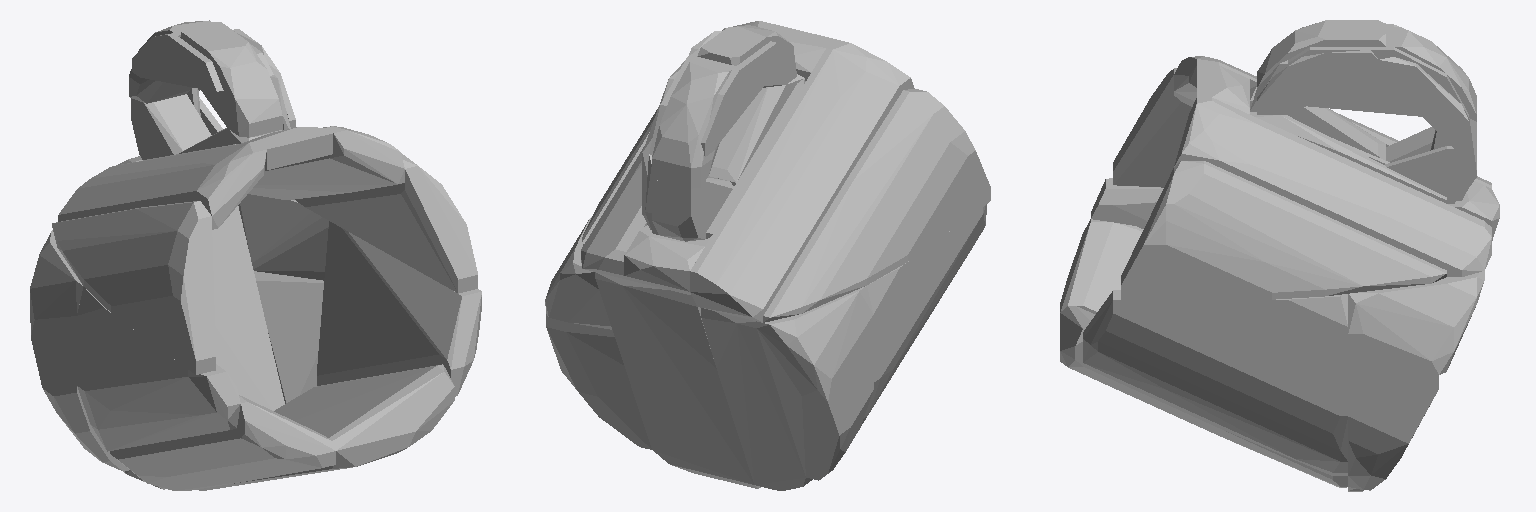
--- Facts derived from the render (not from the file) ---
3 views of the same robot in one strip: view 1: azimuth 30°, elevation 25°; view 2: azimuth 150°, elevation 25°; view 3: azimuth 270°, elevation 25° (orthographic).
Model root with 29 links and 28 joints (28 fixed), rooted at link_b6f30c63c946c286cf6897d8875cfd5e_convex_piece_0, posed every joint at zero.
Links seen in each view (by area): view 1: link_b6f30c63c946c286cf6897d8875cfd5e_convex_piece_0, link_b6f30c63c946c286cf6897d8875cfd5e_convex_piece_7, link_b6f30c63c946c286cf6897d8875cfd5e_convex_piece_2, link_b6f30c63c946c286cf6897d8875cfd5e_convex_piece_6, link_b6f30c63c946c286cf6897d8875cfd5e_convex_piece_11, link_b6f30c63c946c286cf6897d8875cfd5e_convex_piece_3, link_b6f30c63c946c286cf6897d8875cfd5e_convex_piece_1, link_b6f30c63c946c286cf6897d8875cfd5e_convex_piece_8, link_b6f30c63c946c286cf6897d8875cfd5e_convex_piece_4, link_b6f30c63c946c286cf6897d8875cfd5e_convex_piece_10, link_b6f30c63c946c286cf6897d8875cfd5e_convex_piece_22, link_b6f30c63c946c286cf6897d8875cfd5e_convex_piece_12 (+7 smaller); view 2: link_b6f30c63c946c286cf6897d8875cfd5e_convex_piece_1, link_b6f30c63c946c286cf6897d8875cfd5e_convex_piece_0, link_b6f30c63c946c286cf6897d8875cfd5e_convex_piece_8, link_b6f30c63c946c286cf6897d8875cfd5e_convex_piece_4, link_b6f30c63c946c286cf6897d8875cfd5e_convex_piece_5, link_b6f30c63c946c286cf6897d8875cfd5e_convex_piece_2, link_b6f30c63c946c286cf6897d8875cfd5e_convex_piece_12, link_b6f30c63c946c286cf6897d8875cfd5e_convex_piece_18, link_b6f30c63c946c286cf6897d8875cfd5e_convex_piece_10, link_b6f30c63c946c286cf6897d8875cfd5e_convex_piece_23, link_b6f30c63c946c286cf6897d8875cfd5e_convex_piece_9, link_b6f30c63c946c286cf6897d8875cfd5e_convex_piece_19 (+7 smaller); view 3: link_b6f30c63c946c286cf6897d8875cfd5e_convex_piece_7, link_b6f30c63c946c286cf6897d8875cfd5e_convex_piece_11, link_b6f30c63c946c286cf6897d8875cfd5e_convex_piece_10, link_b6f30c63c946c286cf6897d8875cfd5e_convex_piece_13, link_b6f30c63c946c286cf6897d8875cfd5e_convex_piece_12, link_b6f30c63c946c286cf6897d8875cfd5e_convex_piece_0, link_b6f30c63c946c286cf6897d8875cfd5e_convex_piece_27, link_b6f30c63c946c286cf6897d8875cfd5e_convex_piece_3, link_b6f30c63c946c286cf6897d8875cfd5e_convex_piece_6, link_b6f30c63c946c286cf6897d8875cfd5e_convex_piece_24, link_b6f30c63c946c286cf6897d8875cfd5e_convex_piece_25, link_b6f30c63c946c286cf6897d8875cfd5e_convex_piece_22 (+10 smaller).
Link boxes in pixels (bbox=[...]): link_b6f30c63c946c286cf6897d8875cfd5e_convex_piece_0: bbox=[52, 201, 215, 374]; link_b6f30c63c946c286cf6897d8875cfd5e_convex_piece_7: bbox=[317, 221, 481, 396]; link_b6f30c63c946c286cf6897d8875cfd5e_convex_piece_2: bbox=[77, 287, 240, 451]; link_b6f30c63c946c286cf6897d8875cfd5e_convex_piece_6: bbox=[198, 364, 454, 490]; link_b6f30c63c946c286cf6897d8875cfd5e_convex_piece_11: bbox=[295, 153, 477, 293]; link_b6f30c63c946c286cf6897d8875cfd5e_convex_piece_3: bbox=[110, 395, 335, 490]; link_b6f30c63c946c286cf6897d8875cfd5e_convex_piece_1: bbox=[58, 141, 266, 229]; link_b6f30c63c946c286cf6897d8875cfd5e_convex_piece_8: bbox=[212, 206, 284, 410]; link_b6f30c63c946c286cf6897d8875cfd5e_convex_piece_4: bbox=[30, 230, 128, 471]; link_b6f30c63c946c286cf6897d8875cfd5e_convex_piece_10: bbox=[248, 126, 404, 199]; link_b6f30c63c946c286cf6897d8875cfd5e_convex_piece_22: bbox=[180, 22, 282, 137]; link_b6f30c63c946c286cf6897d8875cfd5e_convex_piece_12: bbox=[254, 271, 323, 403]; link_b6f30c63c946c286cf6897d8875cfd5e_convex_piece_1: bbox=[690, 40, 914, 322]; link_b6f30c63c946c286cf6897d8875cfd5e_convex_piece_0: bbox=[763, 89, 990, 322]; link_b6f30c63c946c286cf6897d8875cfd5e_convex_piece_8: bbox=[595, 272, 760, 488]; link_b6f30c63c946c286cf6897d8875cfd5e_convex_piece_4: bbox=[757, 286, 873, 480]; link_b6f30c63c946c286cf6897d8875cfd5e_convex_piece_5: bbox=[701, 308, 812, 490]; link_b6f30c63c946c286cf6897d8875cfd5e_convex_piece_2: bbox=[861, 204, 986, 425]; link_b6f30c63c946c286cf6897d8875cfd5e_convex_piece_12: bbox=[546, 314, 651, 449]; link_b6f30c63c946c286cf6897d8875cfd5e_convex_piece_18: bbox=[652, 57, 735, 188]; link_b6f30c63c946c286cf6897d8875cfd5e_convex_piece_10: bbox=[581, 21, 770, 279]; link_b6f30c63c946c286cf6897d8875cfd5e_convex_piece_23: bbox=[652, 176, 733, 241]; link_b6f30c63c946c286cf6897d8875cfd5e_convex_piece_9: bbox=[624, 225, 710, 294]; link_b6f30c63c946c286cf6897d8875cfd5e_convex_piece_19: bbox=[709, 74, 803, 185]; link_b6f30c63c946c286cf6897d8875cfd5e_convex_piece_7: bbox=[1083, 290, 1347, 472]; link_b6f30c63c946c286cf6897d8875cfd5e_convex_piece_11: bbox=[1121, 161, 1446, 299]; link_b6f30c63c946c286cf6897d8875cfd5e_convex_piece_10: bbox=[1174, 97, 1491, 276]; link_b6f30c63c946c286cf6897d8875cfd5e_convex_piece_13: bbox=[1348, 271, 1484, 374]; link_b6f30c63c946c286cf6897d8875cfd5e_convex_piece_12: bbox=[1348, 375, 1438, 490]; link_b6f30c63c946c286cf6897d8875cfd5e_convex_piece_0: bbox=[1113, 68, 1194, 187]; link_b6f30c63c946c286cf6897d8875cfd5e_convex_piece_27: bbox=[1257, 50, 1378, 114]; link_b6f30c63c946c286cf6897d8875cfd5e_convex_piece_3: bbox=[1060, 219, 1143, 314]; link_b6f30c63c946c286cf6897d8875cfd5e_convex_piece_6: bbox=[1060, 306, 1347, 487]; link_b6f30c63c946c286cf6897d8875cfd5e_convex_piece_24: bbox=[1379, 57, 1468, 148]; link_b6f30c63c946c286cf6897d8875cfd5e_convex_piece_25: bbox=[1288, 47, 1468, 117]; link_b6f30c63c946c286cf6897d8875cfd5e_convex_piece_22: bbox=[1257, 20, 1385, 87].
Bounding box of the posed robot: 0.0342 × 0.0462 × 0.0509 m (x, y, z).
Meshes: 29 distinct files referenced, 29 mesh visuals loaded (29 OBJ).

The robot description file, URDF, robot "root":
<robot name="root">
  <link name="link_b6f30c63c946c286cf6897d8875cfd5e_convex_piece_0">
    <inertial>
      <origin rpy="0 0 0" xyz="0 0 0"/>
      <mass value="2.46E-07"/>
      <inertia ixx="2.02E-11" ixy="1.10E-11" ixz="-1.99E-11" iyy="5.26E-11" iyz="-5.85E-12" izz="6.77E-11"/>
    </inertial>
    <visual>
      <origin rpy="0 0 0" xyz="0 0 0"/>
      <geometry>
        <mesh filename="b6f30c63c946c286cf6897d8875cfd5e_convex_piece_0.obj" scale="1.0000E+00"/>
      </geometry>
      <material name="">
        <color rgba="7.50E-01 7.50E-01 7.50E-01 1"/>
      </material>
    </visual>
    <collision>
      <origin rpy="0 0 0" xyz="0 0 0"/>
      <geometry>
        <mesh filename="b6f30c63c946c286cf6897d8875cfd5e_convex_piece_0.obj" scale="1.0000E+00"/>
      </geometry>
    </collision>
  </link>
  <link name="link_b6f30c63c946c286cf6897d8875cfd5e_convex_piece_1">
    <inertial>
      <origin rpy="0 0 0" xyz="0 0 0"/>
      <mass value="3.14E-07"/>
      <inertia ixx="5.94E-11" ixy="-1.40E-11" ixz="-2.20E-11" iyy="4.30E-11" iyz="7.39E-12" izz="5.57E-11"/>
    </inertial>
    <visual>
      <origin rpy="0 0 0" xyz="0 0 0"/>
      <geometry>
        <mesh filename="b6f30c63c946c286cf6897d8875cfd5e_convex_piece_1.obj" scale="1.0000E+00"/>
      </geometry>
      <material name="">
        <color rgba="7.50E-01 7.50E-01 7.50E-01 1"/>
      </material>
    </visual>
    <collision>
      <origin rpy="0 0 0" xyz="0 0 0"/>
      <geometry>
        <mesh filename="b6f30c63c946c286cf6897d8875cfd5e_convex_piece_1.obj" scale="1.0000E+00"/>
      </geometry>
    </collision>
  </link>
  <joint name="link_b6f30c63c946c286cf6897d8875cfd5e_convex_piece_1_joint" type="fixed">
    <origin rpy="0 0 0" xyz="0 0 0"/>
    <parent link="link_b6f30c63c946c286cf6897d8875cfd5e_convex_piece_0"/>
    <child link="link_b6f30c63c946c286cf6897d8875cfd5e_convex_piece_1"/>
  </joint>
  <link name="link_b6f30c63c946c286cf6897d8875cfd5e_convex_piece_2">
    <inertial>
      <origin rpy="0 0 0" xyz="0 0 0"/>
      <mass value="2.31E-07"/>
      <inertia ixx="1.70E-11" ixy="1.12E-11" ixz="1.89E-11" iyy="5.55E-11" iyz="1.87E-12" izz="6.67E-11"/>
    </inertial>
    <visual>
      <origin rpy="0 0 0" xyz="0 0 0"/>
      <geometry>
        <mesh filename="b6f30c63c946c286cf6897d8875cfd5e_convex_piece_2.obj" scale="1.0000E+00"/>
      </geometry>
      <material name="">
        <color rgba="7.50E-01 7.50E-01 7.50E-01 1"/>
      </material>
    </visual>
    <collision>
      <origin rpy="0 0 0" xyz="0 0 0"/>
      <geometry>
        <mesh filename="b6f30c63c946c286cf6897d8875cfd5e_convex_piece_2.obj" scale="1.0000E+00"/>
      </geometry>
    </collision>
  </link>
  <joint name="link_b6f30c63c946c286cf6897d8875cfd5e_convex_piece_2_joint" type="fixed">
    <origin rpy="0 0 0" xyz="0 0 0"/>
    <parent link="link_b6f30c63c946c286cf6897d8875cfd5e_convex_piece_1"/>
    <child link="link_b6f30c63c946c286cf6897d8875cfd5e_convex_piece_2"/>
  </joint>
  <link name="link_b6f30c63c946c286cf6897d8875cfd5e_convex_piece_3">
    <inertial>
      <origin rpy="0 0 0" xyz="0 0 0"/>
      <mass value="3.49E-07"/>
      <inertia ixx="9.86E-11" ixy="2.08E-11" ixz="3.91E-11" iyy="8.68E-11" iyz="2.20E-11" izz="6.96E-11"/>
    </inertial>
    <visual>
      <origin rpy="0 0 0" xyz="0 0 0"/>
      <geometry>
        <mesh filename="b6f30c63c946c286cf6897d8875cfd5e_convex_piece_3.obj" scale="1.0000E+00"/>
      </geometry>
      <material name="">
        <color rgba="7.50E-01 7.50E-01 7.50E-01 1"/>
      </material>
    </visual>
    <collision>
      <origin rpy="0 0 0" xyz="0 0 0"/>
      <geometry>
        <mesh filename="b6f30c63c946c286cf6897d8875cfd5e_convex_piece_3.obj" scale="1.0000E+00"/>
      </geometry>
    </collision>
  </link>
  <joint name="link_b6f30c63c946c286cf6897d8875cfd5e_convex_piece_3_joint" type="fixed">
    <origin rpy="0 0 0" xyz="0 0 0"/>
    <parent link="link_b6f30c63c946c286cf6897d8875cfd5e_convex_piece_2"/>
    <child link="link_b6f30c63c946c286cf6897d8875cfd5e_convex_piece_3"/>
  </joint>
  <link name="link_b6f30c63c946c286cf6897d8875cfd5e_convex_piece_4">
    <inertial>
      <origin rpy="0 0 0" xyz="0 0 0"/>
      <mass value="2.24E-07"/>
      <inertia ixx="4.94E-11" ixy="-3.83E-11" ixz="2.49E-11" iyy="5.71E-11" iyz="-2.02E-11" izz="8.01E-11"/>
    </inertial>
    <visual>
      <origin rpy="0 0 0" xyz="0 0 0"/>
      <geometry>
        <mesh filename="b6f30c63c946c286cf6897d8875cfd5e_convex_piece_4.obj" scale="1.0000E+00"/>
      </geometry>
      <material name="">
        <color rgba="7.50E-01 7.50E-01 7.50E-01 1"/>
      </material>
    </visual>
    <collision>
      <origin rpy="0 0 0" xyz="0 0 0"/>
      <geometry>
        <mesh filename="b6f30c63c946c286cf6897d8875cfd5e_convex_piece_4.obj" scale="1.0000E+00"/>
      </geometry>
    </collision>
  </link>
  <joint name="link_b6f30c63c946c286cf6897d8875cfd5e_convex_piece_4_joint" type="fixed">
    <origin rpy="0 0 0" xyz="0 0 0"/>
    <parent link="link_b6f30c63c946c286cf6897d8875cfd5e_convex_piece_3"/>
    <child link="link_b6f30c63c946c286cf6897d8875cfd5e_convex_piece_4"/>
  </joint>
  <link name="link_b6f30c63c946c286cf6897d8875cfd5e_convex_piece_5">
    <inertial>
      <origin rpy="0 0 0" xyz="0 0 0"/>
      <mass value="1.39E-07"/>
      <inertia ixx="4.70E-11" ixy="-1.39E-11" ixz="1.19E-11" iyy="2.85E-11" iyz="-1.83E-11" izz="3.50E-11"/>
    </inertial>
    <visual>
      <origin rpy="0 0 0" xyz="0 0 0"/>
      <geometry>
        <mesh filename="b6f30c63c946c286cf6897d8875cfd5e_convex_piece_5.obj" scale="1.0000E+00"/>
      </geometry>
      <material name="">
        <color rgba="7.50E-01 7.50E-01 7.50E-01 1"/>
      </material>
    </visual>
    <collision>
      <origin rpy="0 0 0" xyz="0 0 0"/>
      <geometry>
        <mesh filename="b6f30c63c946c286cf6897d8875cfd5e_convex_piece_5.obj" scale="1.0000E+00"/>
      </geometry>
    </collision>
  </link>
  <joint name="link_b6f30c63c946c286cf6897d8875cfd5e_convex_piece_5_joint" type="fixed">
    <origin rpy="0 0 0" xyz="0 0 0"/>
    <parent link="link_b6f30c63c946c286cf6897d8875cfd5e_convex_piece_4"/>
    <child link="link_b6f30c63c946c286cf6897d8875cfd5e_convex_piece_5"/>
  </joint>
  <link name="link_b6f30c63c946c286cf6897d8875cfd5e_convex_piece_6">
    <inertial>
      <origin rpy="0 0 0" xyz="0 0 0"/>
      <mass value="5.61E-07"/>
      <inertia ixx="1.87E-10" ixy="-1.69E-11" ixz="-3.21E-11" iyy="1.35E-10" iyz="4.38E-11" izz="8.99E-11"/>
    </inertial>
    <visual>
      <origin rpy="0 0 0" xyz="0 0 0"/>
      <geometry>
        <mesh filename="b6f30c63c946c286cf6897d8875cfd5e_convex_piece_6.obj" scale="1.0000E+00"/>
      </geometry>
      <material name="">
        <color rgba="7.50E-01 7.50E-01 7.50E-01 1"/>
      </material>
    </visual>
    <collision>
      <origin rpy="0 0 0" xyz="0 0 0"/>
      <geometry>
        <mesh filename="b6f30c63c946c286cf6897d8875cfd5e_convex_piece_6.obj" scale="1.0000E+00"/>
      </geometry>
    </collision>
  </link>
  <joint name="link_b6f30c63c946c286cf6897d8875cfd5e_convex_piece_6_joint" type="fixed">
    <origin rpy="0 0 0" xyz="0 0 0"/>
    <parent link="link_b6f30c63c946c286cf6897d8875cfd5e_convex_piece_5"/>
    <child link="link_b6f30c63c946c286cf6897d8875cfd5e_convex_piece_6"/>
  </joint>
  <link name="link_b6f30c63c946c286cf6897d8875cfd5e_convex_piece_7">
    <inertial>
      <origin rpy="0 0 0" xyz="0 0 0"/>
      <mass value="3.95E-07"/>
      <inertia ixx="3.53E-11" ixy="-2.04E-11" ixz="-3.12E-11" iyy="8.88E-11" iyz="4.72E-12" izz="1.06E-10"/>
    </inertial>
    <visual>
      <origin rpy="0 0 0" xyz="0 0 0"/>
      <geometry>
        <mesh filename="b6f30c63c946c286cf6897d8875cfd5e_convex_piece_7.obj" scale="1.0000E+00"/>
      </geometry>
      <material name="">
        <color rgba="7.50E-01 7.50E-01 7.50E-01 1"/>
      </material>
    </visual>
    <collision>
      <origin rpy="0 0 0" xyz="0 0 0"/>
      <geometry>
        <mesh filename="b6f30c63c946c286cf6897d8875cfd5e_convex_piece_7.obj" scale="1.0000E+00"/>
      </geometry>
    </collision>
  </link>
  <joint name="link_b6f30c63c946c286cf6897d8875cfd5e_convex_piece_7_joint" type="fixed">
    <origin rpy="0 0 0" xyz="0 0 0"/>
    <parent link="link_b6f30c63c946c286cf6897d8875cfd5e_convex_piece_6"/>
    <child link="link_b6f30c63c946c286cf6897d8875cfd5e_convex_piece_7"/>
  </joint>
  <link name="link_b6f30c63c946c286cf6897d8875cfd5e_convex_piece_8">
    <inertial>
      <origin rpy="0 0 0" xyz="0 0 0"/>
      <mass value="2.15E-07"/>
      <inertia ixx="7.70E-11" ixy="7.20E-12" ixz="-5.77E-12" iyy="3.64E-11" iyz="-2.76E-11" izz="4.81E-11"/>
    </inertial>
    <visual>
      <origin rpy="0 0 0" xyz="0 0 0"/>
      <geometry>
        <mesh filename="b6f30c63c946c286cf6897d8875cfd5e_convex_piece_8.obj" scale="1.0000E+00"/>
      </geometry>
      <material name="">
        <color rgba="7.50E-01 7.50E-01 7.50E-01 1"/>
      </material>
    </visual>
    <collision>
      <origin rpy="0 0 0" xyz="0 0 0"/>
      <geometry>
        <mesh filename="b6f30c63c946c286cf6897d8875cfd5e_convex_piece_8.obj" scale="1.0000E+00"/>
      </geometry>
    </collision>
  </link>
  <joint name="link_b6f30c63c946c286cf6897d8875cfd5e_convex_piece_8_joint" type="fixed">
    <origin rpy="0 0 0" xyz="0 0 0"/>
    <parent link="link_b6f30c63c946c286cf6897d8875cfd5e_convex_piece_7"/>
    <child link="link_b6f30c63c946c286cf6897d8875cfd5e_convex_piece_8"/>
  </joint>
  <link name="link_b6f30c63c946c286cf6897d8875cfd5e_convex_piece_9">
    <inertial>
      <origin rpy="0 0 0" xyz="0 0 0"/>
      <mass value="4.98E-08"/>
      <inertia ixx="1.79E-11" ixy="2.98E-13" ixz="7.78E-14" iyy="-8.86E-14" iyz="4.92E-12" izz="1.85E-11"/>
    </inertial>
    <visual>
      <origin rpy="0 0 0" xyz="0 0 0"/>
      <geometry>
        <mesh filename="b6f30c63c946c286cf6897d8875cfd5e_convex_piece_9.obj" scale="1.0000E+00"/>
      </geometry>
      <material name="">
        <color rgba="7.50E-01 7.50E-01 7.50E-01 1"/>
      </material>
    </visual>
    <collision>
      <origin rpy="0 0 0" xyz="0 0 0"/>
      <geometry>
        <mesh filename="b6f30c63c946c286cf6897d8875cfd5e_convex_piece_9.obj" scale="1.0000E+00"/>
      </geometry>
    </collision>
  </link>
  <joint name="link_b6f30c63c946c286cf6897d8875cfd5e_convex_piece_9_joint" type="fixed">
    <origin rpy="0 0 0" xyz="0 0 0"/>
    <parent link="link_b6f30c63c946c286cf6897d8875cfd5e_convex_piece_8"/>
    <child link="link_b6f30c63c946c286cf6897d8875cfd5e_convex_piece_9"/>
  </joint>
  <link name="link_b6f30c63c946c286cf6897d8875cfd5e_convex_piece_10">
    <inertial>
      <origin rpy="0 0 0" xyz="0 0 0"/>
      <mass value="2.37E-07"/>
      <inertia ixx="4.42E-11" ixy="9.30E-12" ixz="1.86E-11" iyy="3.59E-11" iyz="5.08E-12" izz="3.98E-11"/>
    </inertial>
    <visual>
      <origin rpy="0 0 0" xyz="0 0 0"/>
      <geometry>
        <mesh filename="b6f30c63c946c286cf6897d8875cfd5e_convex_piece_10.obj" scale="1.0000E+00"/>
      </geometry>
      <material name="">
        <color rgba="7.50E-01 7.50E-01 7.50E-01 1"/>
      </material>
    </visual>
    <collision>
      <origin rpy="0 0 0" xyz="0 0 0"/>
      <geometry>
        <mesh filename="b6f30c63c946c286cf6897d8875cfd5e_convex_piece_10.obj" scale="1.0000E+00"/>
      </geometry>
    </collision>
  </link>
  <joint name="link_b6f30c63c946c286cf6897d8875cfd5e_convex_piece_10_joint" type="fixed">
    <origin rpy="0 0 0" xyz="0 0 0"/>
    <parent link="link_b6f30c63c946c286cf6897d8875cfd5e_convex_piece_9"/>
    <child link="link_b6f30c63c946c286cf6897d8875cfd5e_convex_piece_10"/>
  </joint>
  <link name="link_b6f30c63c946c286cf6897d8875cfd5e_convex_piece_11">
    <inertial>
      <origin rpy="0 0 0" xyz="0 0 0"/>
      <mass value="2.00E-07"/>
      <inertia ixx="1.72E-11" ixy="-1.08E-11" ixz="1.90E-11" iyy="4.39E-11" iyz="-6.02E-12" izz="5.22E-11"/>
    </inertial>
    <visual>
      <origin rpy="0 0 0" xyz="0 0 0"/>
      <geometry>
        <mesh filename="b6f30c63c946c286cf6897d8875cfd5e_convex_piece_11.obj" scale="1.0000E+00"/>
      </geometry>
      <material name="">
        <color rgba="7.50E-01 7.50E-01 7.50E-01 1"/>
      </material>
    </visual>
    <collision>
      <origin rpy="0 0 0" xyz="0 0 0"/>
      <geometry>
        <mesh filename="b6f30c63c946c286cf6897d8875cfd5e_convex_piece_11.obj" scale="1.0000E+00"/>
      </geometry>
    </collision>
  </link>
  <joint name="link_b6f30c63c946c286cf6897d8875cfd5e_convex_piece_11_joint" type="fixed">
    <origin rpy="0 0 0" xyz="0 0 0"/>
    <parent link="link_b6f30c63c946c286cf6897d8875cfd5e_convex_piece_10"/>
    <child link="link_b6f30c63c946c286cf6897d8875cfd5e_convex_piece_11"/>
  </joint>
  <link name="link_b6f30c63c946c286cf6897d8875cfd5e_convex_piece_12">
    <inertial>
      <origin rpy="0 0 0" xyz="0 0 0"/>
      <mass value="1.58E-07"/>
      <inertia ixx="4.40E-11" ixy="2.30E-11" ixz="-2.51E-11" iyy="4.91E-11" iyz="-2.18E-11" izz="4.80E-11"/>
    </inertial>
    <visual>
      <origin rpy="0 0 0" xyz="0 0 0"/>
      <geometry>
        <mesh filename="b6f30c63c946c286cf6897d8875cfd5e_convex_piece_12.obj" scale="1.0000E+00"/>
      </geometry>
      <material name="">
        <color rgba="7.50E-01 7.50E-01 7.50E-01 1"/>
      </material>
    </visual>
    <collision>
      <origin rpy="0 0 0" xyz="0 0 0"/>
      <geometry>
        <mesh filename="b6f30c63c946c286cf6897d8875cfd5e_convex_piece_12.obj" scale="1.0000E+00"/>
      </geometry>
    </collision>
  </link>
  <joint name="link_b6f30c63c946c286cf6897d8875cfd5e_convex_piece_12_joint" type="fixed">
    <origin rpy="0 0 0" xyz="0 0 0"/>
    <parent link="link_b6f30c63c946c286cf6897d8875cfd5e_convex_piece_11"/>
    <child link="link_b6f30c63c946c286cf6897d8875cfd5e_convex_piece_12"/>
  </joint>
  <link name="link_b6f30c63c946c286cf6897d8875cfd5e_convex_piece_13">
    <inertial>
      <origin rpy="0 0 0" xyz="0 0 0"/>
      <mass value="1.42E-07"/>
      <inertia ixx="2.65E-11" ixy="2.54E-11" ixz="-3.87E-12" iyy="2.07E-11" iyz="-3.65E-12" izz="5.44E-11"/>
    </inertial>
    <visual>
      <origin rpy="0 0 0" xyz="0 0 0"/>
      <geometry>
        <mesh filename="b6f30c63c946c286cf6897d8875cfd5e_convex_piece_13.obj" scale="1.0000E+00"/>
      </geometry>
      <material name="">
        <color rgba="7.50E-01 7.50E-01 7.50E-01 1"/>
      </material>
    </visual>
    <collision>
      <origin rpy="0 0 0" xyz="0 0 0"/>
      <geometry>
        <mesh filename="b6f30c63c946c286cf6897d8875cfd5e_convex_piece_13.obj" scale="1.0000E+00"/>
      </geometry>
    </collision>
  </link>
  <joint name="link_b6f30c63c946c286cf6897d8875cfd5e_convex_piece_13_joint" type="fixed">
    <origin rpy="0 0 0" xyz="0 0 0"/>
    <parent link="link_b6f30c63c946c286cf6897d8875cfd5e_convex_piece_12"/>
    <child link="link_b6f30c63c946c286cf6897d8875cfd5e_convex_piece_13"/>
  </joint>
  <link name="link_b6f30c63c946c286cf6897d8875cfd5e_convex_piece_14">
    <inertial>
      <origin rpy="0 0 0" xyz="0 0 0"/>
      <mass value="3.34E-08"/>
      <inertia ixx="1.06E-11" ixy="-5.41E-14" ixz="1.66E-13" iyy="9.62E-12" iyz="-3.30E-12" izz="1.31E-12"/>
    </inertial>
    <visual>
      <origin rpy="0 0 0" xyz="0 0 0"/>
      <geometry>
        <mesh filename="b6f30c63c946c286cf6897d8875cfd5e_convex_piece_14.obj" scale="1.0000E+00"/>
      </geometry>
      <material name="">
        <color rgba="7.50E-01 7.50E-01 7.50E-01 1"/>
      </material>
    </visual>
    <collision>
      <origin rpy="0 0 0" xyz="0 0 0"/>
      <geometry>
        <mesh filename="b6f30c63c946c286cf6897d8875cfd5e_convex_piece_14.obj" scale="1.0000E+00"/>
      </geometry>
    </collision>
  </link>
  <joint name="link_b6f30c63c946c286cf6897d8875cfd5e_convex_piece_14_joint" type="fixed">
    <origin rpy="0 0 0" xyz="0 0 0"/>
    <parent link="link_b6f30c63c946c286cf6897d8875cfd5e_convex_piece_13"/>
    <child link="link_b6f30c63c946c286cf6897d8875cfd5e_convex_piece_14"/>
  </joint>
  <link name="link_b6f30c63c946c286cf6897d8875cfd5e_convex_piece_15">
    <inertial>
      <origin rpy="0 0 0" xyz="0 0 0"/>
      <mass value="2.34E-08"/>
      <inertia ixx="4.29E-12" ixy="4.95E-13" ixz="1.01E-12" iyy="3.17E-12" iyz="1.46E-12" izz="1.71E-12"/>
    </inertial>
    <visual>
      <origin rpy="0 0 0" xyz="0 0 0"/>
      <geometry>
        <mesh filename="b6f30c63c946c286cf6897d8875cfd5e_convex_piece_15.obj" scale="1.0000E+00"/>
      </geometry>
      <material name="">
        <color rgba="7.50E-01 7.50E-01 7.50E-01 1"/>
      </material>
    </visual>
    <collision>
      <origin rpy="0 0 0" xyz="0 0 0"/>
      <geometry>
        <mesh filename="b6f30c63c946c286cf6897d8875cfd5e_convex_piece_15.obj" scale="1.0000E+00"/>
      </geometry>
    </collision>
  </link>
  <joint name="link_b6f30c63c946c286cf6897d8875cfd5e_convex_piece_15_joint" type="fixed">
    <origin rpy="0 0 0" xyz="0 0 0"/>
    <parent link="link_b6f30c63c946c286cf6897d8875cfd5e_convex_piece_14"/>
    <child link="link_b6f30c63c946c286cf6897d8875cfd5e_convex_piece_15"/>
  </joint>
  <link name="link_b6f30c63c946c286cf6897d8875cfd5e_convex_piece_16">
    <inertial>
      <origin rpy="0 0 0" xyz="0 0 0"/>
      <mass value="1.20E-08"/>
      <inertia ixx="6.94E-12" ixy="-4.36E-13" ixz="-8.51E-13" iyy="5.37E-12" iyz="2.86E-12" izz="1.82E-12"/>
    </inertial>
    <visual>
      <origin rpy="0 0 0" xyz="0 0 0"/>
      <geometry>
        <mesh filename="b6f30c63c946c286cf6897d8875cfd5e_convex_piece_16.obj" scale="1.0000E+00"/>
      </geometry>
      <material name="">
        <color rgba="7.50E-01 7.50E-01 7.50E-01 1"/>
      </material>
    </visual>
    <collision>
      <origin rpy="0 0 0" xyz="0 0 0"/>
      <geometry>
        <mesh filename="b6f30c63c946c286cf6897d8875cfd5e_convex_piece_16.obj" scale="1.0000E+00"/>
      </geometry>
    </collision>
  </link>
  <joint name="link_b6f30c63c946c286cf6897d8875cfd5e_convex_piece_16_joint" type="fixed">
    <origin rpy="0 0 0" xyz="0 0 0"/>
    <parent link="link_b6f30c63c946c286cf6897d8875cfd5e_convex_piece_15"/>
    <child link="link_b6f30c63c946c286cf6897d8875cfd5e_convex_piece_16"/>
  </joint>
  <link name="link_b6f30c63c946c286cf6897d8875cfd5e_convex_piece_17">
    <inertial>
      <origin rpy="0 0 0" xyz="0 0 0"/>
      <mass value="1.14E-08"/>
      <inertia ixx="2.08E-12" ixy="-2.41E-13" ixz="-4.41E-13" iyy="1.40E-12" iyz="7.52E-13" izz="9.18E-13"/>
    </inertial>
    <visual>
      <origin rpy="0 0 0" xyz="0 0 0"/>
      <geometry>
        <mesh filename="b6f30c63c946c286cf6897d8875cfd5e_convex_piece_17.obj" scale="1.0000E+00"/>
      </geometry>
      <material name="">
        <color rgba="7.50E-01 7.50E-01 7.50E-01 1"/>
      </material>
    </visual>
    <collision>
      <origin rpy="0 0 0" xyz="0 0 0"/>
      <geometry>
        <mesh filename="b6f30c63c946c286cf6897d8875cfd5e_convex_piece_17.obj" scale="1.0000E+00"/>
      </geometry>
    </collision>
  </link>
  <joint name="link_b6f30c63c946c286cf6897d8875cfd5e_convex_piece_17_joint" type="fixed">
    <origin rpy="0 0 0" xyz="0 0 0"/>
    <parent link="link_b6f30c63c946c286cf6897d8875cfd5e_convex_piece_16"/>
    <child link="link_b6f30c63c946c286cf6897d8875cfd5e_convex_piece_17"/>
  </joint>
  <link name="link_b6f30c63c946c286cf6897d8875cfd5e_convex_piece_18">
    <inertial>
      <origin rpy="0 0 0" xyz="0 0 0"/>
      <mass value="6.38E-08"/>
      <inertia ixx="3.96E-11" ixy="-7.13E-13" ixz="-8.27E-13" iyy="2.25E-11" iyz="2.00E-11" izz="1.75E-11"/>
    </inertial>
    <visual>
      <origin rpy="0 0 0" xyz="0 0 0"/>
      <geometry>
        <mesh filename="b6f30c63c946c286cf6897d8875cfd5e_convex_piece_18.obj" scale="1.0000E+00"/>
      </geometry>
      <material name="">
        <color rgba="7.50E-01 7.50E-01 7.50E-01 1"/>
      </material>
    </visual>
    <collision>
      <origin rpy="0 0 0" xyz="0 0 0"/>
      <geometry>
        <mesh filename="b6f30c63c946c286cf6897d8875cfd5e_convex_piece_18.obj" scale="1.0000E+00"/>
      </geometry>
    </collision>
  </link>
  <joint name="link_b6f30c63c946c286cf6897d8875cfd5e_convex_piece_18_joint" type="fixed">
    <origin rpy="0 0 0" xyz="0 0 0"/>
    <parent link="link_b6f30c63c946c286cf6897d8875cfd5e_convex_piece_17"/>
    <child link="link_b6f30c63c946c286cf6897d8875cfd5e_convex_piece_18"/>
  </joint>
  <link name="link_b6f30c63c946c286cf6897d8875cfd5e_convex_piece_19">
    <inertial>
      <origin rpy="0 0 0" xyz="0 0 0"/>
      <mass value="6.65E-08"/>
      <inertia ixx="1.29E-11" ixy="-1.23E-13" ixz="-4.32E-13" iyy="1.11E-11" iyz="3.30E-12" izz="2.15E-12"/>
    </inertial>
    <visual>
      <origin rpy="0 0 0" xyz="0 0 0"/>
      <geometry>
        <mesh filename="b6f30c63c946c286cf6897d8875cfd5e_convex_piece_19.obj" scale="1.0000E+00"/>
      </geometry>
      <material name="">
        <color rgba="7.50E-01 7.50E-01 7.50E-01 1"/>
      </material>
    </visual>
    <collision>
      <origin rpy="0 0 0" xyz="0 0 0"/>
      <geometry>
        <mesh filename="b6f30c63c946c286cf6897d8875cfd5e_convex_piece_19.obj" scale="1.0000E+00"/>
      </geometry>
    </collision>
  </link>
  <joint name="link_b6f30c63c946c286cf6897d8875cfd5e_convex_piece_19_joint" type="fixed">
    <origin rpy="0 0 0" xyz="0 0 0"/>
    <parent link="link_b6f30c63c946c286cf6897d8875cfd5e_convex_piece_18"/>
    <child link="link_b6f30c63c946c286cf6897d8875cfd5e_convex_piece_19"/>
  </joint>
  <link name="link_b6f30c63c946c286cf6897d8875cfd5e_convex_piece_20">
    <inertial>
      <origin rpy="0 0 0" xyz="0 0 0"/>
      <mass value="4.68E-09"/>
      <inertia ixx="1.36E-12" ixy="-6.73E-15" ixz="1.92E-13" iyy="1.38E-12" iyz="-3.97E-14" izz="3.14E-14"/>
    </inertial>
    <visual>
      <origin rpy="0 0 0" xyz="0 0 0"/>
      <geometry>
        <mesh filename="b6f30c63c946c286cf6897d8875cfd5e_convex_piece_20.obj" scale="1.0000E+00"/>
      </geometry>
      <material name="">
        <color rgba="7.50E-01 7.50E-01 7.50E-01 1"/>
      </material>
    </visual>
    <collision>
      <origin rpy="0 0 0" xyz="0 0 0"/>
      <geometry>
        <mesh filename="b6f30c63c946c286cf6897d8875cfd5e_convex_piece_20.obj" scale="1.0000E+00"/>
      </geometry>
    </collision>
  </link>
  <joint name="link_b6f30c63c946c286cf6897d8875cfd5e_convex_piece_20_joint" type="fixed">
    <origin rpy="0 0 0" xyz="0 0 0"/>
    <parent link="link_b6f30c63c946c286cf6897d8875cfd5e_convex_piece_19"/>
    <child link="link_b6f30c63c946c286cf6897d8875cfd5e_convex_piece_20"/>
  </joint>
  <link name="link_b6f30c63c946c286cf6897d8875cfd5e_convex_piece_21">
    <inertial>
      <origin rpy="0 0 0" xyz="0 0 0"/>
      <mass value="7.62E-09"/>
      <inertia ixx="3.38E-12" ixy="3.19E-13" ixz="2.05E-13" iyy="8.74E-13" iyz="1.65E-12" izz="2.59E-12"/>
    </inertial>
    <visual>
      <origin rpy="0 0 0" xyz="0 0 0"/>
      <geometry>
        <mesh filename="b6f30c63c946c286cf6897d8875cfd5e_convex_piece_21.obj" scale="1.0000E+00"/>
      </geometry>
      <material name="">
        <color rgba="7.50E-01 7.50E-01 7.50E-01 1"/>
      </material>
    </visual>
    <collision>
      <origin rpy="0 0 0" xyz="0 0 0"/>
      <geometry>
        <mesh filename="b6f30c63c946c286cf6897d8875cfd5e_convex_piece_21.obj" scale="1.0000E+00"/>
      </geometry>
    </collision>
  </link>
  <joint name="link_b6f30c63c946c286cf6897d8875cfd5e_convex_piece_21_joint" type="fixed">
    <origin rpy="0 0 0" xyz="0 0 0"/>
    <parent link="link_b6f30c63c946c286cf6897d8875cfd5e_convex_piece_20"/>
    <child link="link_b6f30c63c946c286cf6897d8875cfd5e_convex_piece_21"/>
  </joint>
  <link name="link_b6f30c63c946c286cf6897d8875cfd5e_convex_piece_22">
    <inertial>
      <origin rpy="0 0 0" xyz="0 0 0"/>
      <mass value="7.29E-08"/>
      <inertia ixx="3.58E-11" ixy="-1.60E-13" ixz="-7.54E-13" iyy="3.34E-11" iyz="7.96E-12" izz="2.65E-12"/>
    </inertial>
    <visual>
      <origin rpy="0 0 0" xyz="0 0 0"/>
      <geometry>
        <mesh filename="b6f30c63c946c286cf6897d8875cfd5e_convex_piece_22.obj" scale="1.0000E+00"/>
      </geometry>
      <material name="">
        <color rgba="7.50E-01 7.50E-01 7.50E-01 1"/>
      </material>
    </visual>
    <collision>
      <origin rpy="0 0 0" xyz="0 0 0"/>
      <geometry>
        <mesh filename="b6f30c63c946c286cf6897d8875cfd5e_convex_piece_22.obj" scale="1.0000E+00"/>
      </geometry>
    </collision>
  </link>
  <joint name="link_b6f30c63c946c286cf6897d8875cfd5e_convex_piece_22_joint" type="fixed">
    <origin rpy="0 0 0" xyz="0 0 0"/>
    <parent link="link_b6f30c63c946c286cf6897d8875cfd5e_convex_piece_21"/>
    <child link="link_b6f30c63c946c286cf6897d8875cfd5e_convex_piece_22"/>
  </joint>
  <link name="link_b6f30c63c946c286cf6897d8875cfd5e_convex_piece_23">
    <inertial>
      <origin rpy="0 0 0" xyz="0 0 0"/>
      <mass value="5.90E-08"/>
      <inertia ixx="2.10E-11" ixy="-4.49E-13" ixz="-2.87E-13" iyy="4.65E-12" iyz="1.04E-11" izz="1.66E-11"/>
    </inertial>
    <visual>
      <origin rpy="0 0 0" xyz="0 0 0"/>
      <geometry>
        <mesh filename="b6f30c63c946c286cf6897d8875cfd5e_convex_piece_23.obj" scale="1.0000E+00"/>
      </geometry>
      <material name="">
        <color rgba="7.50E-01 7.50E-01 7.50E-01 1"/>
      </material>
    </visual>
    <collision>
      <origin rpy="0 0 0" xyz="0 0 0"/>
      <geometry>
        <mesh filename="b6f30c63c946c286cf6897d8875cfd5e_convex_piece_23.obj" scale="1.0000E+00"/>
      </geometry>
    </collision>
  </link>
  <joint name="link_b6f30c63c946c286cf6897d8875cfd5e_convex_piece_23_joint" type="fixed">
    <origin rpy="0 0 0" xyz="0 0 0"/>
    <parent link="link_b6f30c63c946c286cf6897d8875cfd5e_convex_piece_22"/>
    <child link="link_b6f30c63c946c286cf6897d8875cfd5e_convex_piece_23"/>
  </joint>
  <link name="link_b6f30c63c946c286cf6897d8875cfd5e_convex_piece_24">
    <inertial>
      <origin rpy="0 0 0" xyz="0 0 0"/>
      <mass value="7.31E-09"/>
      <inertia ixx="4.29E-12" ixy="3.57E-13" ixz="4.29E-13" iyy="2.50E-12" iyz="2.16E-12" izz="1.93E-12"/>
    </inertial>
    <visual>
      <origin rpy="0 0 0" xyz="0 0 0"/>
      <geometry>
        <mesh filename="b6f30c63c946c286cf6897d8875cfd5e_convex_piece_24.obj" scale="1.0000E+00"/>
      </geometry>
      <material name="">
        <color rgba="7.50E-01 7.50E-01 7.50E-01 1"/>
      </material>
    </visual>
    <collision>
      <origin rpy="0 0 0" xyz="0 0 0"/>
      <geometry>
        <mesh filename="b6f30c63c946c286cf6897d8875cfd5e_convex_piece_24.obj" scale="1.0000E+00"/>
      </geometry>
    </collision>
  </link>
  <joint name="link_b6f30c63c946c286cf6897d8875cfd5e_convex_piece_24_joint" type="fixed">
    <origin rpy="0 0 0" xyz="0 0 0"/>
    <parent link="link_b6f30c63c946c286cf6897d8875cfd5e_convex_piece_23"/>
    <child link="link_b6f30c63c946c286cf6897d8875cfd5e_convex_piece_24"/>
  </joint>
  <link name="link_b6f30c63c946c286cf6897d8875cfd5e_convex_piece_25">
    <inertial>
      <origin rpy="0 0 0" xyz="0 0 0"/>
      <mass value="2.05E-08"/>
      <inertia ixx="1.06E-11" ixy="4.60E-13" ixz="9.74E-13" iyy="8.24E-12" iyz="4.12E-12" izz="2.55E-12"/>
    </inertial>
    <visual>
      <origin rpy="0 0 0" xyz="0 0 0"/>
      <geometry>
        <mesh filename="b6f30c63c946c286cf6897d8875cfd5e_convex_piece_25.obj" scale="1.0000E+00"/>
      </geometry>
      <material name="">
        <color rgba="7.50E-01 7.50E-01 7.50E-01 1"/>
      </material>
    </visual>
    <collision>
      <origin rpy="0 0 0" xyz="0 0 0"/>
      <geometry>
        <mesh filename="b6f30c63c946c286cf6897d8875cfd5e_convex_piece_25.obj" scale="1.0000E+00"/>
      </geometry>
    </collision>
  </link>
  <joint name="link_b6f30c63c946c286cf6897d8875cfd5e_convex_piece_25_joint" type="fixed">
    <origin rpy="0 0 0" xyz="0 0 0"/>
    <parent link="link_b6f30c63c946c286cf6897d8875cfd5e_convex_piece_24"/>
    <child link="link_b6f30c63c946c286cf6897d8875cfd5e_convex_piece_25"/>
  </joint>
  <link name="link_b6f30c63c946c286cf6897d8875cfd5e_convex_piece_26">
    <inertial>
      <origin rpy="0 0 0" xyz="0 0 0"/>
      <mass value="7.91E-09"/>
      <inertia ixx="1.42E-12" ixy="1.53E-13" ixz="2.03E-13" iyy="7.84E-13" iyz="7.06E-13" izz="7.23E-13"/>
    </inertial>
    <visual>
      <origin rpy="0 0 0" xyz="0 0 0"/>
      <geometry>
        <mesh filename="b6f30c63c946c286cf6897d8875cfd5e_convex_piece_26.obj" scale="1.0000E+00"/>
      </geometry>
      <material name="">
        <color rgba="7.50E-01 7.50E-01 7.50E-01 1"/>
      </material>
    </visual>
    <collision>
      <origin rpy="0 0 0" xyz="0 0 0"/>
      <geometry>
        <mesh filename="b6f30c63c946c286cf6897d8875cfd5e_convex_piece_26.obj" scale="1.0000E+00"/>
      </geometry>
    </collision>
  </link>
  <joint name="link_b6f30c63c946c286cf6897d8875cfd5e_convex_piece_26_joint" type="fixed">
    <origin rpy="0 0 0" xyz="0 0 0"/>
    <parent link="link_b6f30c63c946c286cf6897d8875cfd5e_convex_piece_25"/>
    <child link="link_b6f30c63c946c286cf6897d8875cfd5e_convex_piece_26"/>
  </joint>
  <link name="link_b6f30c63c946c286cf6897d8875cfd5e_convex_piece_27">
    <inertial>
      <origin rpy="0 0 0" xyz="0 0 0"/>
      <mass value="9.45E-09"/>
      <inertia ixx="4.25E-12" ixy="1.14E-13" ixz="6.25E-13" iyy="4.10E-12" iyz="8.44E-13" izz="3.32E-13"/>
    </inertial>
    <visual>
      <origin rpy="0 0 0" xyz="0 0 0"/>
      <geometry>
        <mesh filename="b6f30c63c946c286cf6897d8875cfd5e_convex_piece_27.obj" scale="1.0000E+00"/>
      </geometry>
      <material name="">
        <color rgba="7.50E-01 7.50E-01 7.50E-01 1"/>
      </material>
    </visual>
    <collision>
      <origin rpy="0 0 0" xyz="0 0 0"/>
      <geometry>
        <mesh filename="b6f30c63c946c286cf6897d8875cfd5e_convex_piece_27.obj" scale="1.0000E+00"/>
      </geometry>
    </collision>
  </link>
  <joint name="link_b6f30c63c946c286cf6897d8875cfd5e_convex_piece_27_joint" type="fixed">
    <origin rpy="0 0 0" xyz="0 0 0"/>
    <parent link="link_b6f30c63c946c286cf6897d8875cfd5e_convex_piece_26"/>
    <child link="link_b6f30c63c946c286cf6897d8875cfd5e_convex_piece_27"/>
  </joint>
  <link name="link_b6f30c63c946c286cf6897d8875cfd5e_convex_piece_28">
    <inertial>
      <origin rpy="0 0 0" xyz="0 0 0"/>
      <mass value="8.85E-09"/>
      <inertia ixx="2.83E-12" ixy="4.28E-13" ixz="2.75E-13" iyy="6.94E-13" iyz="1.42E-12" izz="2.30E-12"/>
    </inertial>
    <visual>
      <origin rpy="0 0 0" xyz="0 0 0"/>
      <geometry>
        <mesh filename="b6f30c63c946c286cf6897d8875cfd5e_convex_piece_28.obj" scale="1.0000E+00"/>
      </geometry>
      <material name="">
        <color rgba="7.50E-01 7.50E-01 7.50E-01 1"/>
      </material>
    </visual>
    <collision>
      <origin rpy="0 0 0" xyz="0 0 0"/>
      <geometry>
        <mesh filename="b6f30c63c946c286cf6897d8875cfd5e_convex_piece_28.obj" scale="1.0000E+00"/>
      </geometry>
    </collision>
  </link>
  <joint name="link_b6f30c63c946c286cf6897d8875cfd5e_convex_piece_28_joint" type="fixed">
    <origin rpy="0 0 0" xyz="0 0 0"/>
    <parent link="link_b6f30c63c946c286cf6897d8875cfd5e_convex_piece_27"/>
    <child link="link_b6f30c63c946c286cf6897d8875cfd5e_convex_piece_28"/>
  </joint>
</robot>
